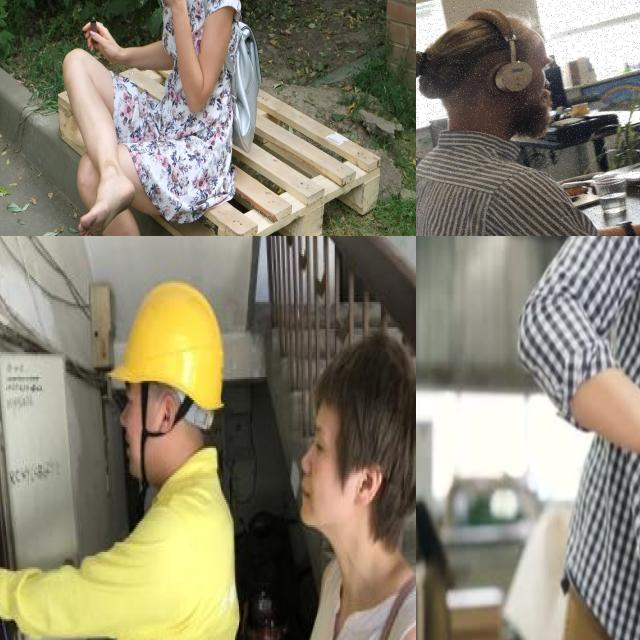Barefoots: (78, 176, 135, 236)
Ear-protection: (416, 0, 585, 167)
No_Ear-Protection: (357, 453, 388, 518), (156, 390, 180, 438)
No_Glasses: (302, 416, 350, 459), (118, 387, 152, 414)
face_nomask: (299, 449, 339, 529), (120, 402, 140, 479), (118, 422, 138, 477)
head_helmet: (109, 283, 228, 417)
head_nohelmet: (316, 332, 416, 547)
person: (506, 236, 640, 640)
